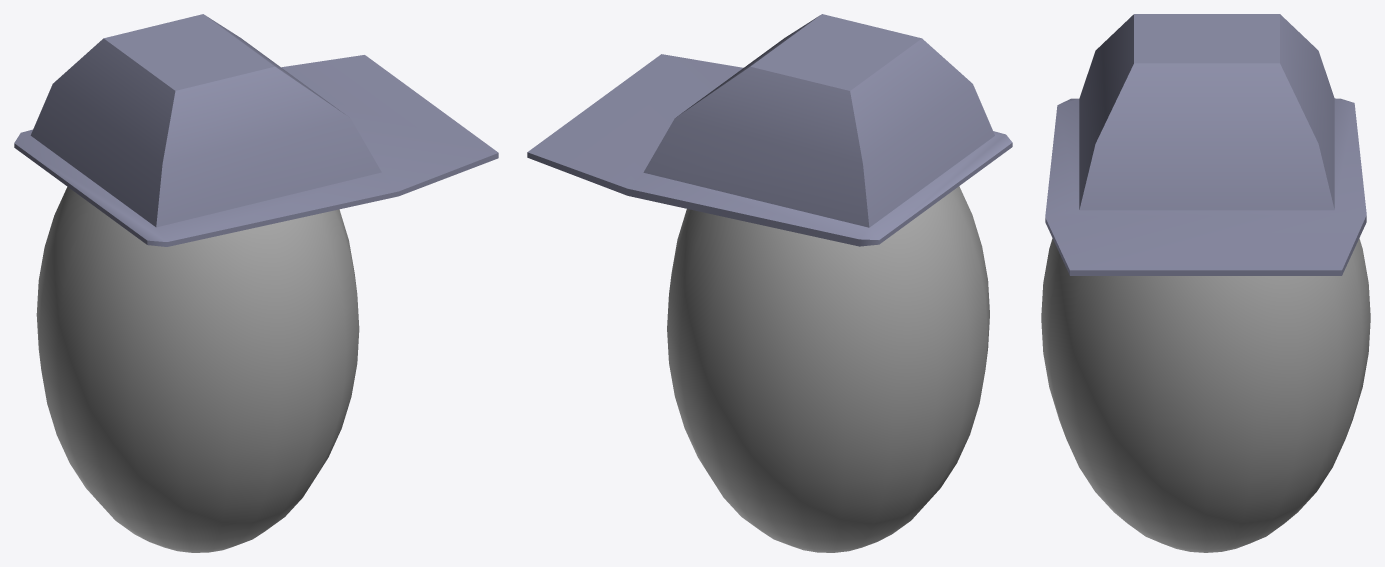
Rendered from CharCasquette.fbx.
3 renders of one model, left to right at view 1: azimuth 30°, elevation 25°; view 2: azimuth 150°, elevation 25°; view 3: azimuth 270°, elevation 25°, orthographic.
Visible parts, largest first — view 1: pCube3; view 2: pCube3; view 3: pCube3.
Part boxes in pixels (x1,y1,x2,y2): pCube3: (14, 14, 498, 552); pCube3: (527, 14, 1012, 552); pCube3: (1041, 14, 1370, 552).
Size of the model in its own units: 3.83 by 4.81 by 2.88.
